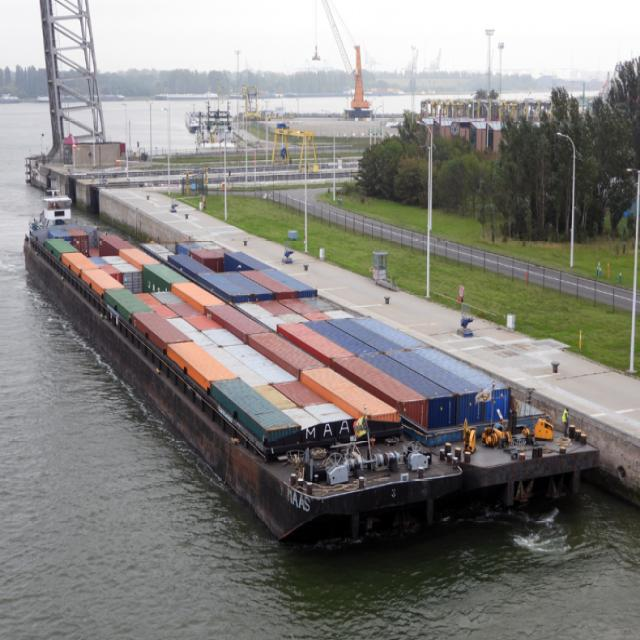tugboat: (26, 187, 102, 272)
